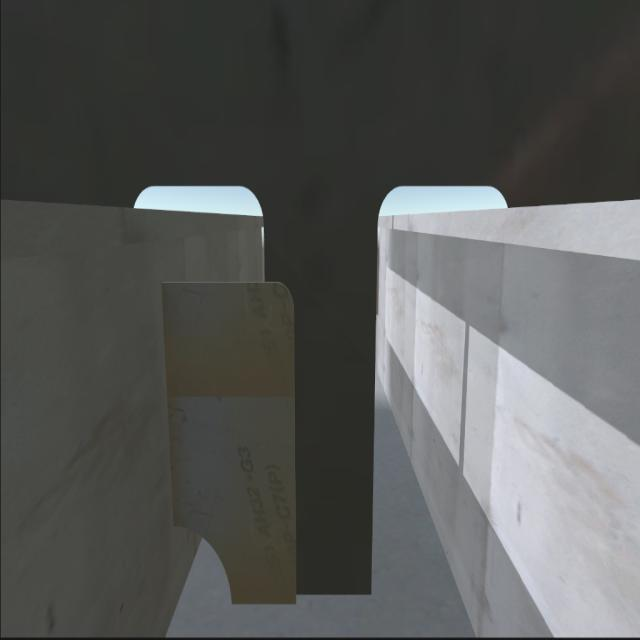fillet_hole: (175, 524, 233, 606)
fillet_yong_jeop_jang: (218, 586, 380, 612)
longi_yong_jeop_jang: (154, 276, 185, 534)
plate_CP05: (159, 279, 298, 600)
